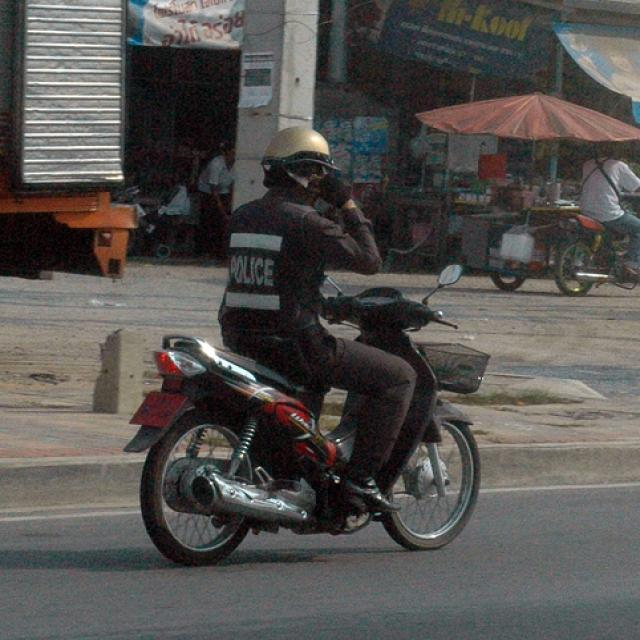motor: (127, 269, 486, 561), (554, 211, 637, 297)
